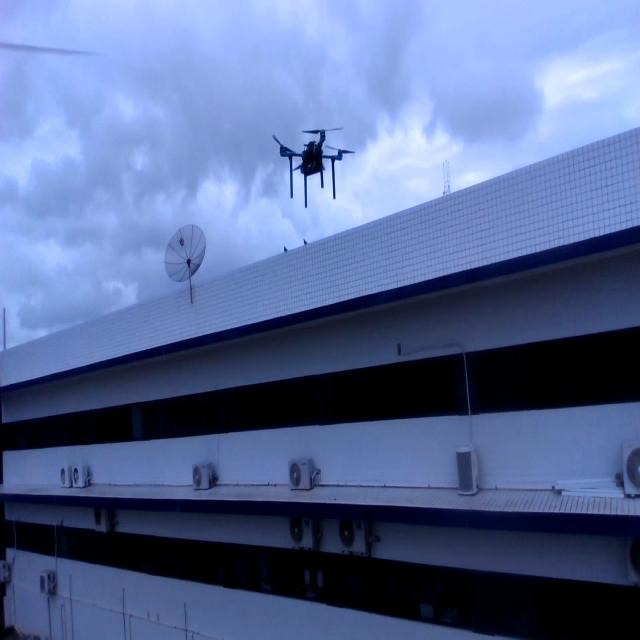-uav-: (269, 110, 363, 213)
